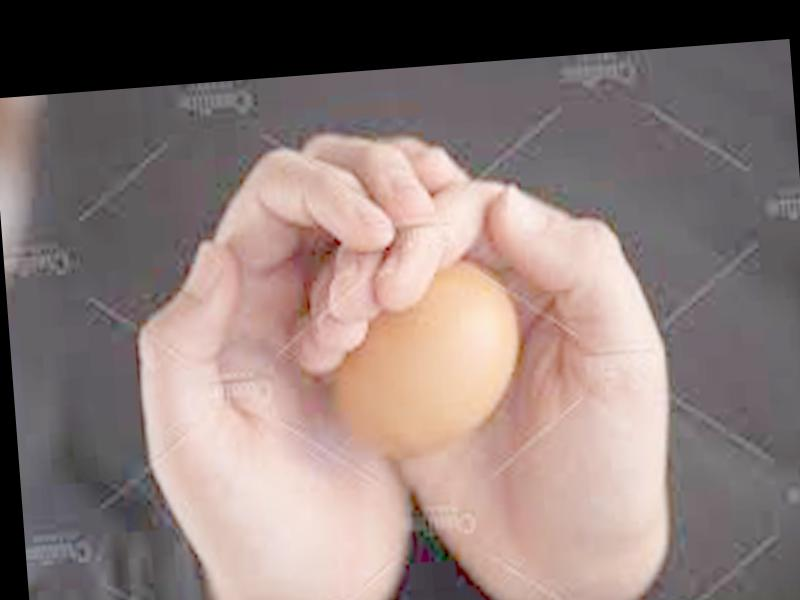Eggs: (316, 262, 527, 464)
